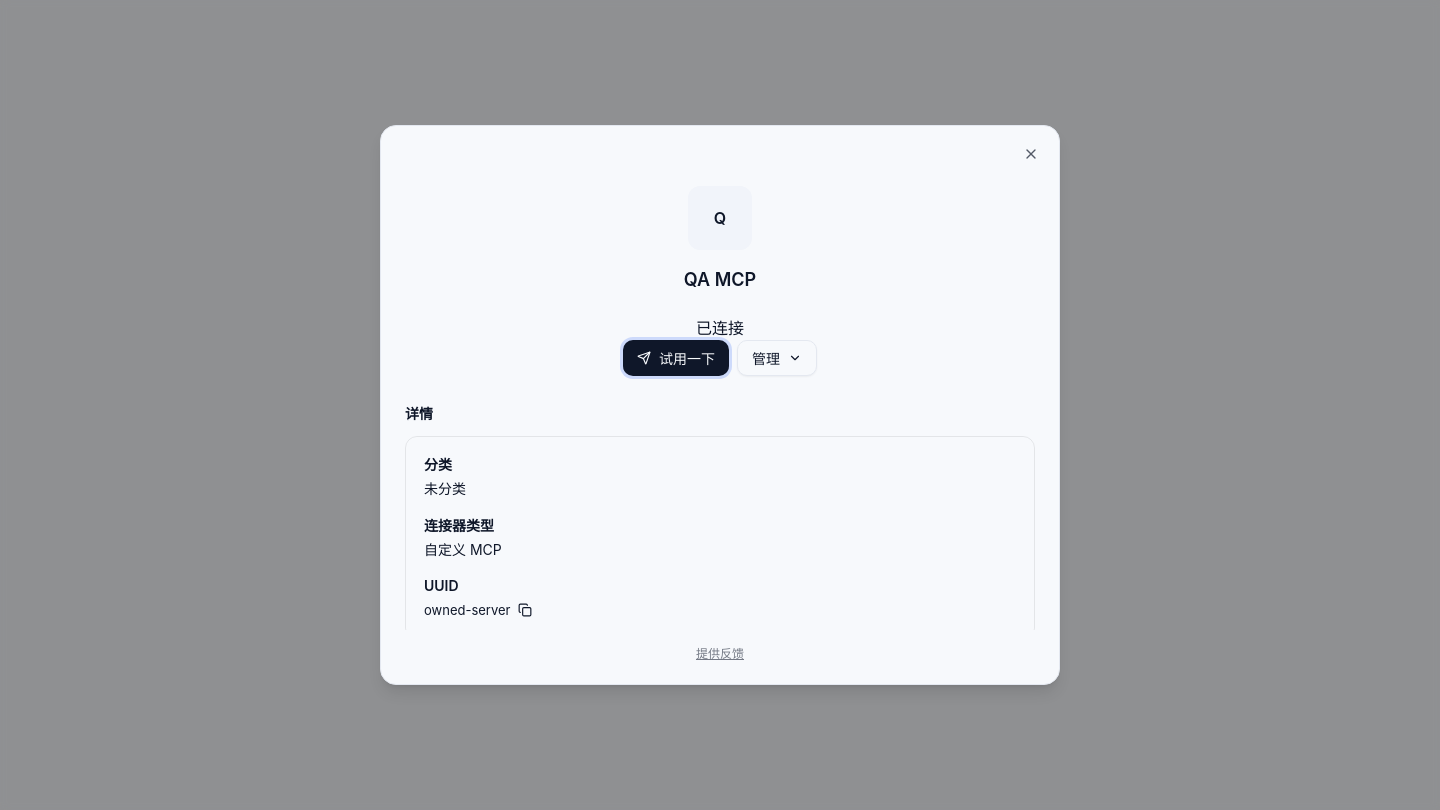
a refused trial from configuration keeps the editor with visible feedback
Press Enter in the button "管理", box [737,340,817,376]
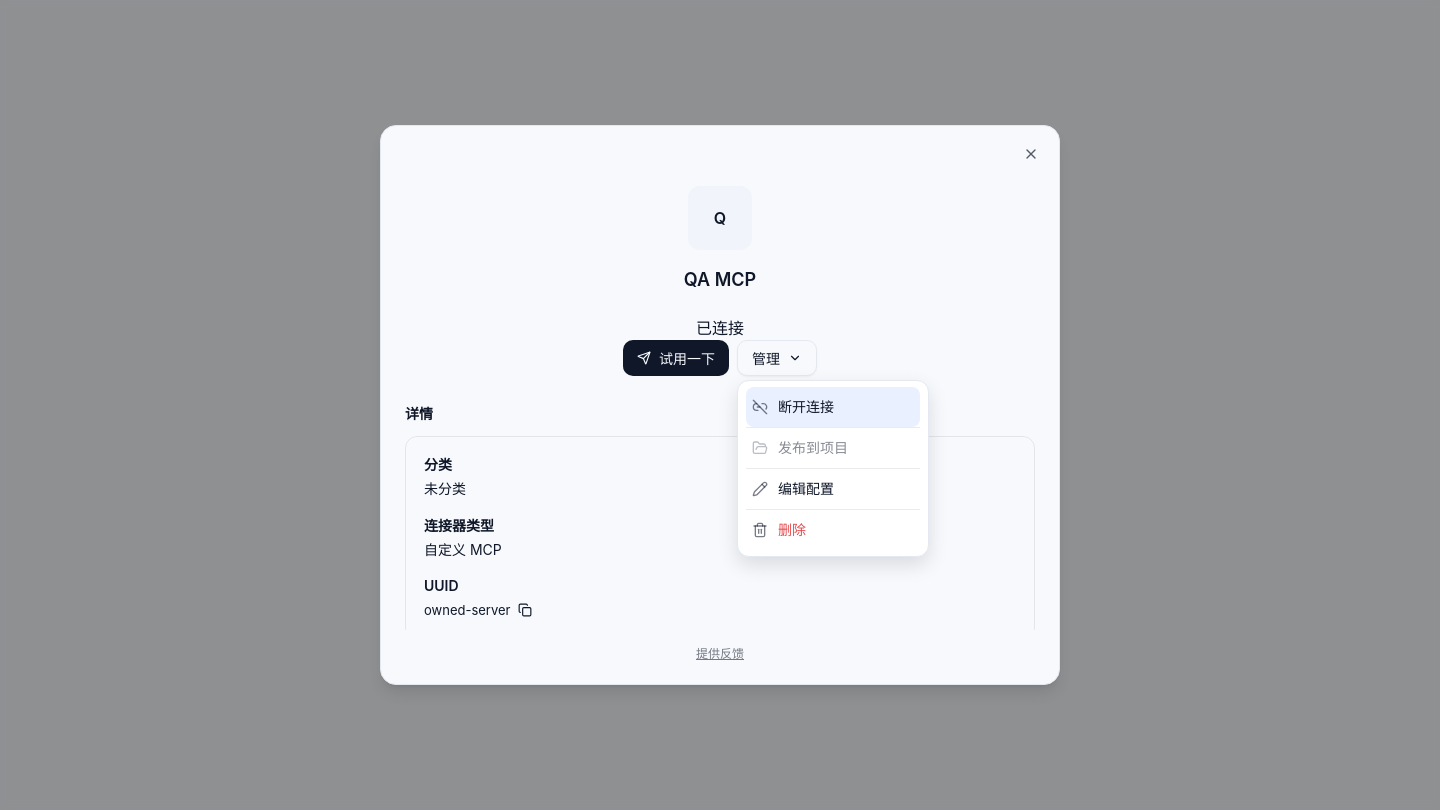
Click the menu item "编辑配置".
click(793, 488)  # box [752,480,834,497]
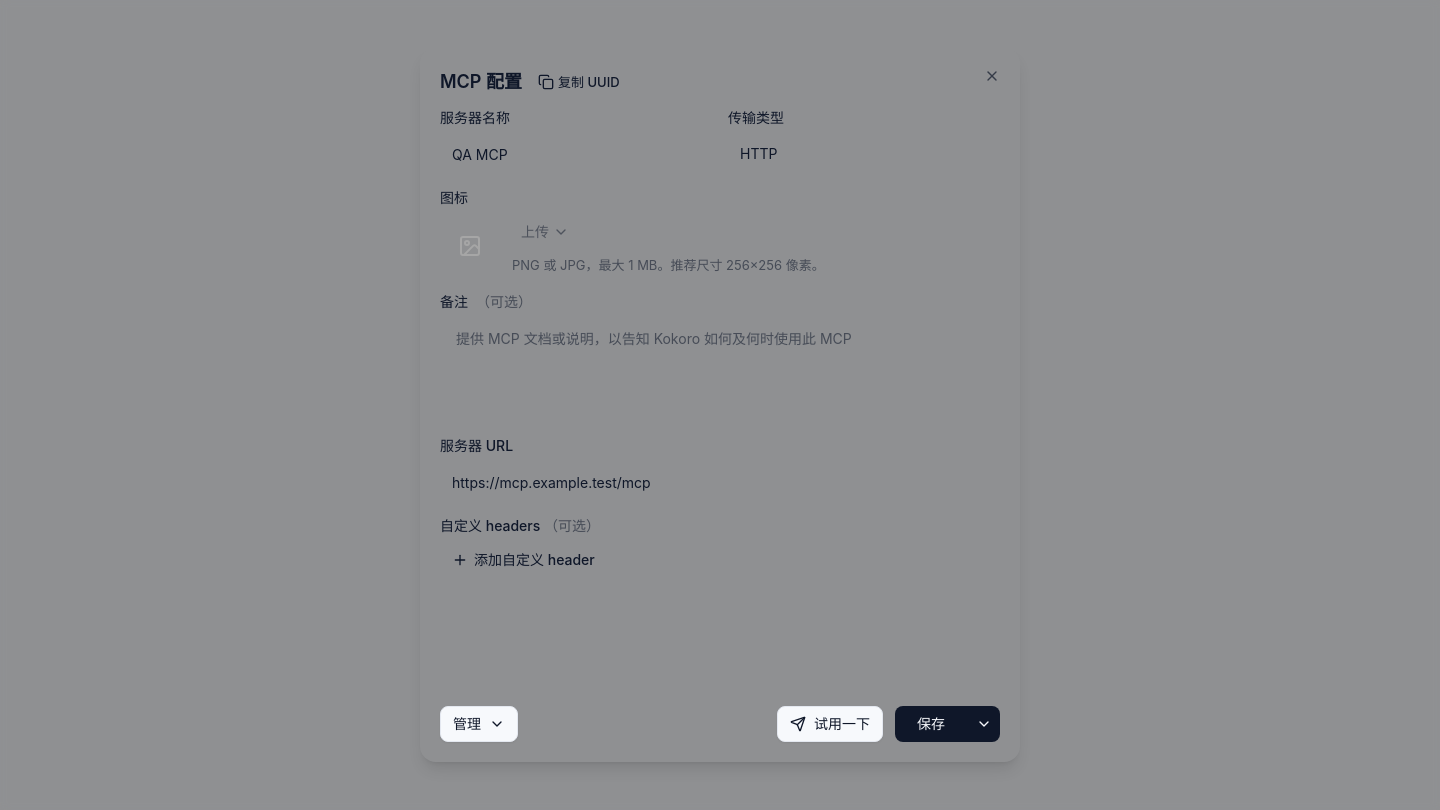
Result: the dialog "MCP 配置" is shown at [420,48,1020,762]
Click the button "试用一下".
click(830, 724)  # box [777,706,883,742]
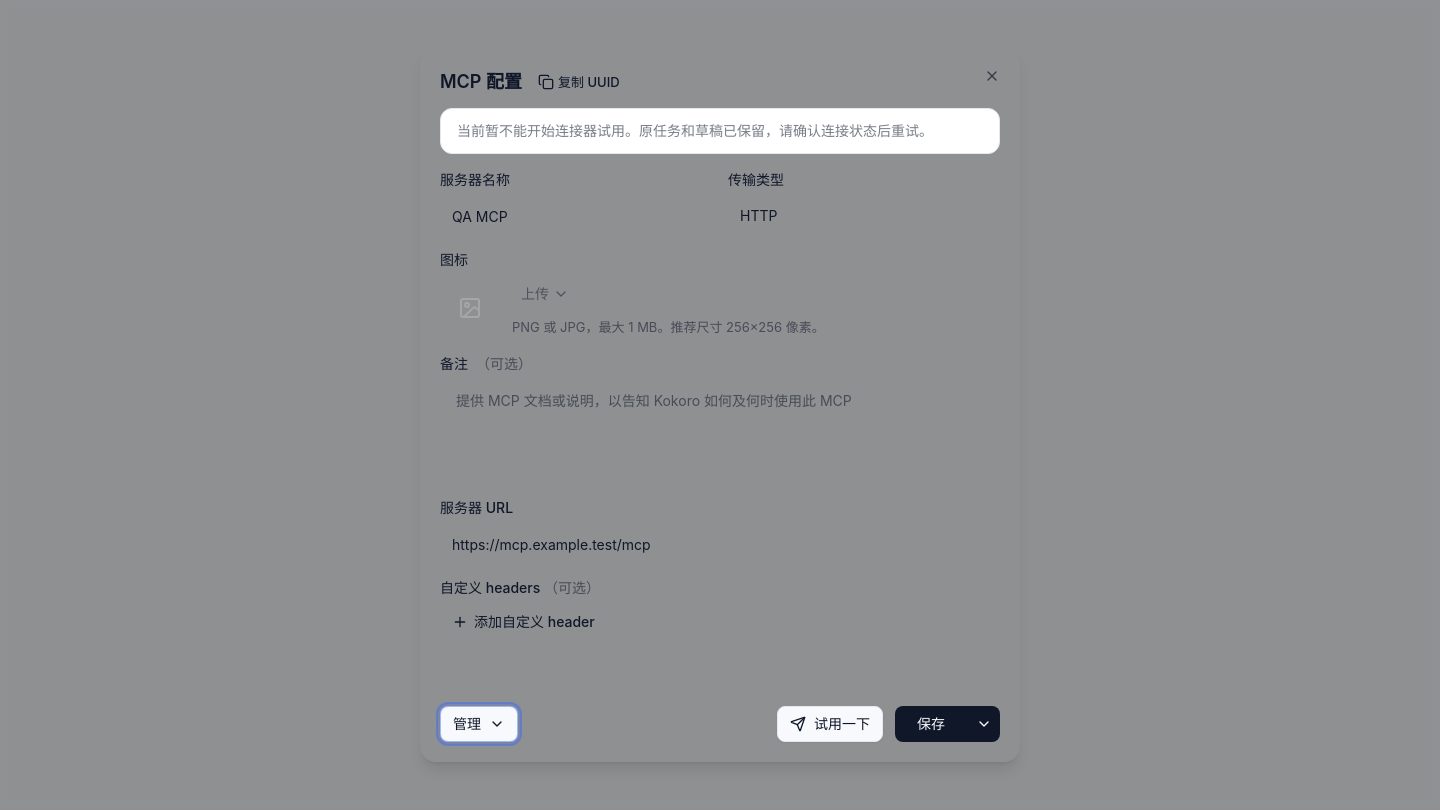
Result: the field labelled "服务器名称" holds "QA MCP" at [440,198,712,234]
Result: the message shows "试用" at [440,108,1000,154]
